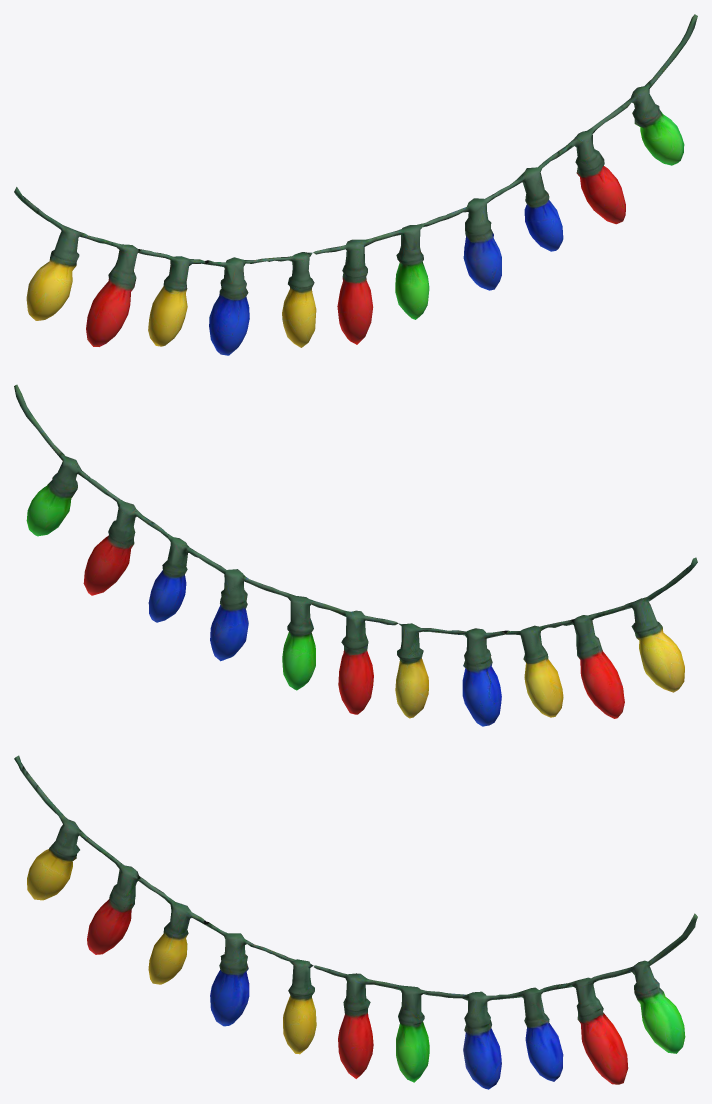
3 renders of one model, top to bottom at view 1: azimuth 30°, elevation 25°; view 2: azimuth 150°, elevation 25°; view 3: azimuth 330°, elevation 25°, orthographic.
Visible parts, largest first — view 1: Mesh_0; view 2: Mesh_0; view 3: Mesh_0.
Part boxes in pixels (x1=…): Mesh_0: x1=14, y1=14, x2=697, y2=355; Mesh_0: x1=14, y1=384, x2=697, y2=726; Mesh_0: x1=14, y1=755, x2=697, y2=1089.
Bounding box in the file's own units: 2.01 × 0.6952 × 0.1052.
Materials: 1 (1 with a texture image).
